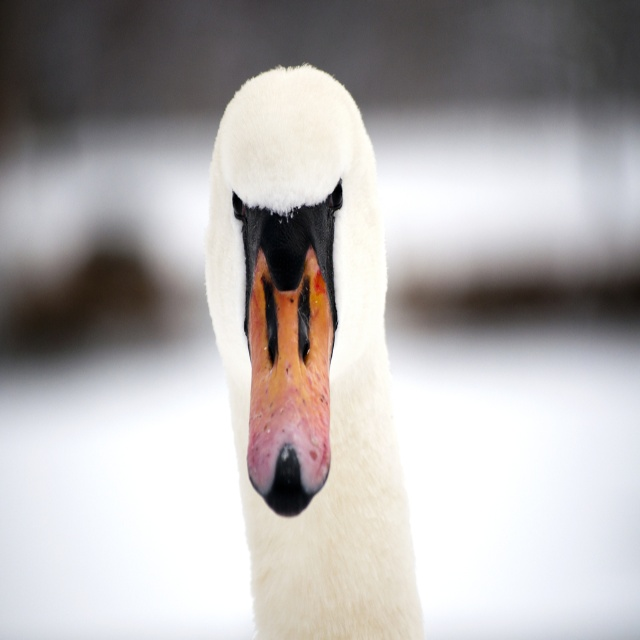Duck: (204, 61, 429, 639)
